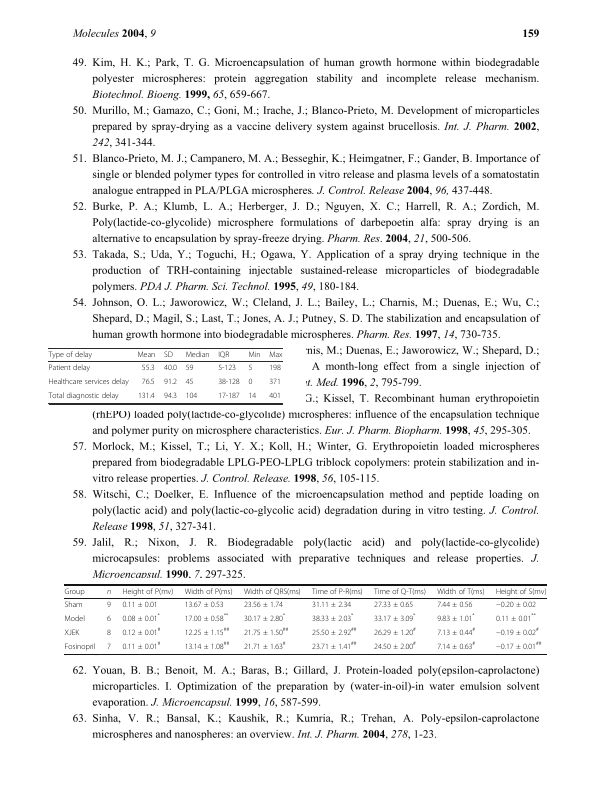borderless: (64, 583, 547, 654), (47, 347, 282, 403)
cell: (48, 378, 130, 388), (48, 392, 120, 402), (243, 587, 302, 596), (495, 640, 542, 651), (184, 626, 230, 637), (243, 626, 289, 637), (311, 626, 357, 637), (184, 640, 230, 651), (311, 640, 357, 651), (184, 612, 229, 623), (495, 626, 540, 637), (373, 587, 427, 596), (373, 626, 417, 637), (243, 640, 287, 651), (373, 640, 417, 651), (121, 587, 174, 596), (311, 587, 364, 596), (243, 612, 286, 623), (311, 612, 354, 623), (373, 612, 416, 623), (495, 587, 547, 596), (495, 612, 537, 623), (436, 587, 486, 596), (184, 587, 233, 596), (121, 612, 161, 623), (436, 612, 476, 623), (121, 626, 161, 637), (436, 626, 476, 637), (121, 640, 161, 651), (436, 640, 476, 651), (48, 364, 91, 374), (48, 351, 93, 360), (495, 600, 537, 609), (184, 600, 225, 609), (243, 600, 284, 609), (311, 600, 352, 609), (373, 600, 414, 609), (121, 600, 159, 609), (436, 600, 473, 609), (64, 642, 96, 651), (217, 378, 241, 388), (217, 392, 241, 402), (185, 351, 210, 360), (217, 364, 237, 374), (64, 614, 86, 623), (137, 392, 156, 402), (64, 587, 85, 596), (136, 351, 156, 360), (64, 600, 83, 609), (141, 364, 156, 374), (163, 364, 178, 374), (141, 378, 156, 388), (163, 378, 178, 388), (163, 392, 178, 402), (64, 628, 80, 637), (268, 364, 282, 374), (268, 378, 282, 388), (268, 392, 282, 402), (268, 351, 283, 360), (185, 392, 198, 402), (247, 351, 261, 360), (217, 351, 230, 360), (247, 392, 257, 402), (163, 351, 174, 360), (185, 364, 194, 374), (185, 378, 194, 388), (247, 364, 253, 374), (247, 378, 253, 388), (106, 600, 112, 609), (106, 614, 112, 623), (106, 628, 112, 637), (106, 642, 112, 651), (106, 589, 112, 595)
